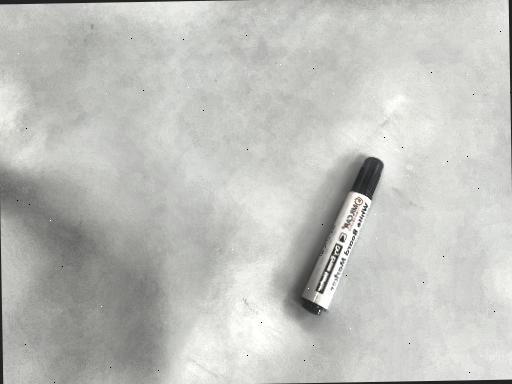marcador negro: (301, 157, 383, 315)
